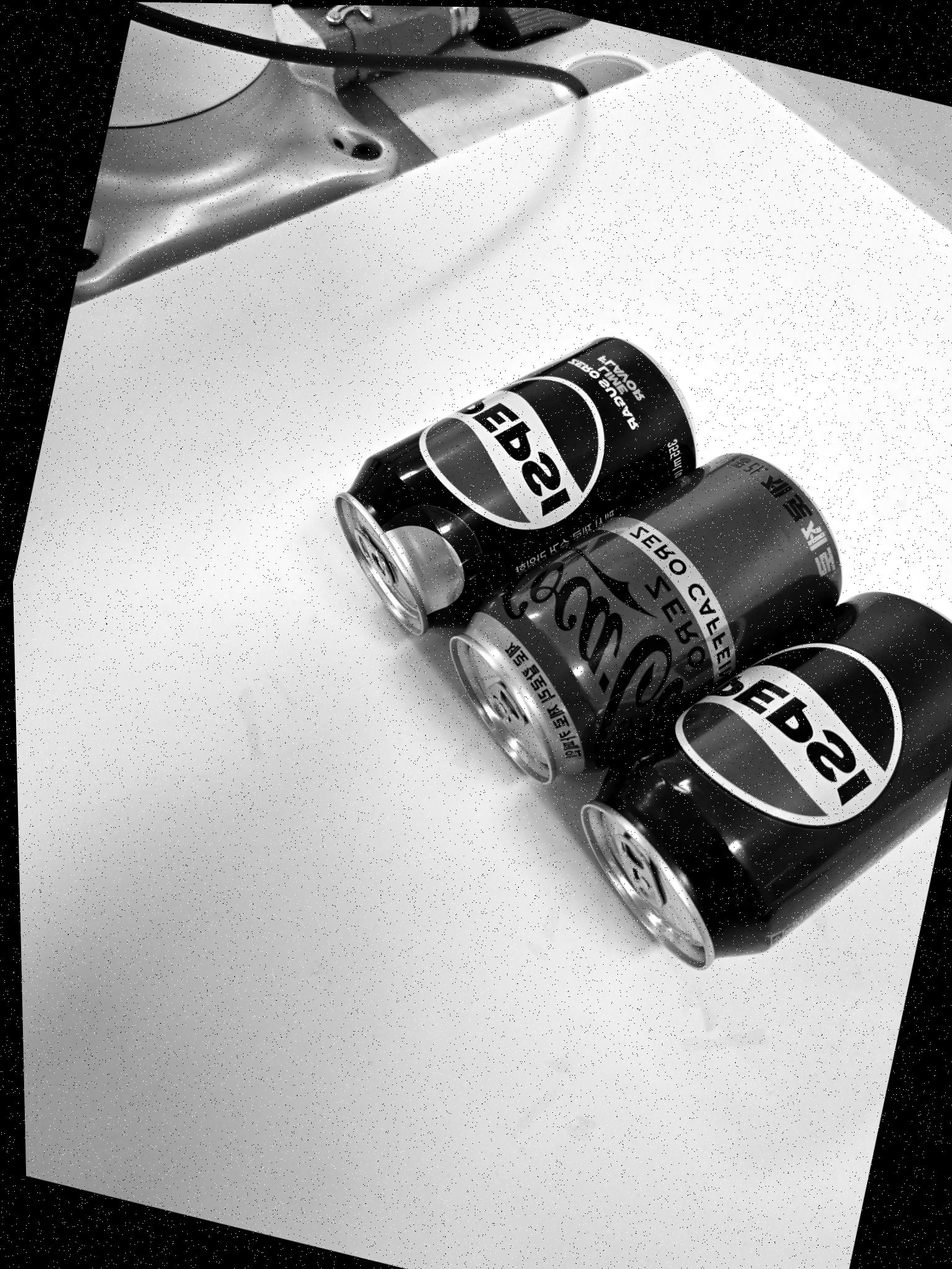can_coke_decaf: (438, 455, 842, 786)
can_pepsi: (579, 592, 952, 966)
can_pepsi_zero: (331, 329, 693, 639)
